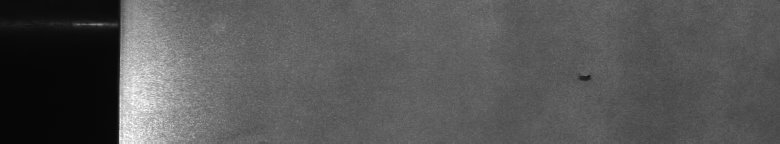fi: (579, 72, 591, 84)
